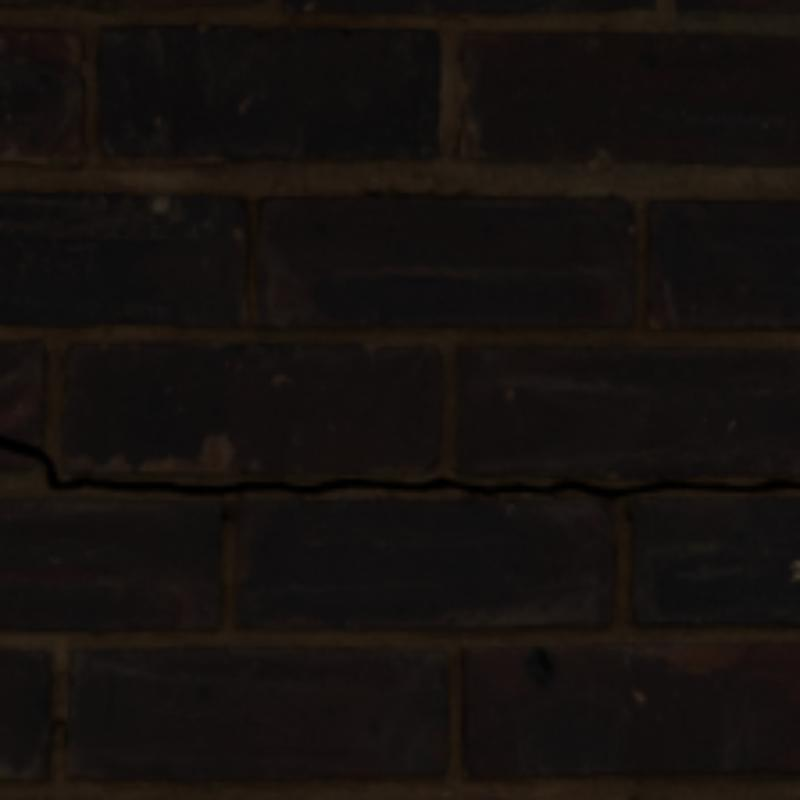pothole: (0, 436, 246, 493), (279, 479, 796, 496)
